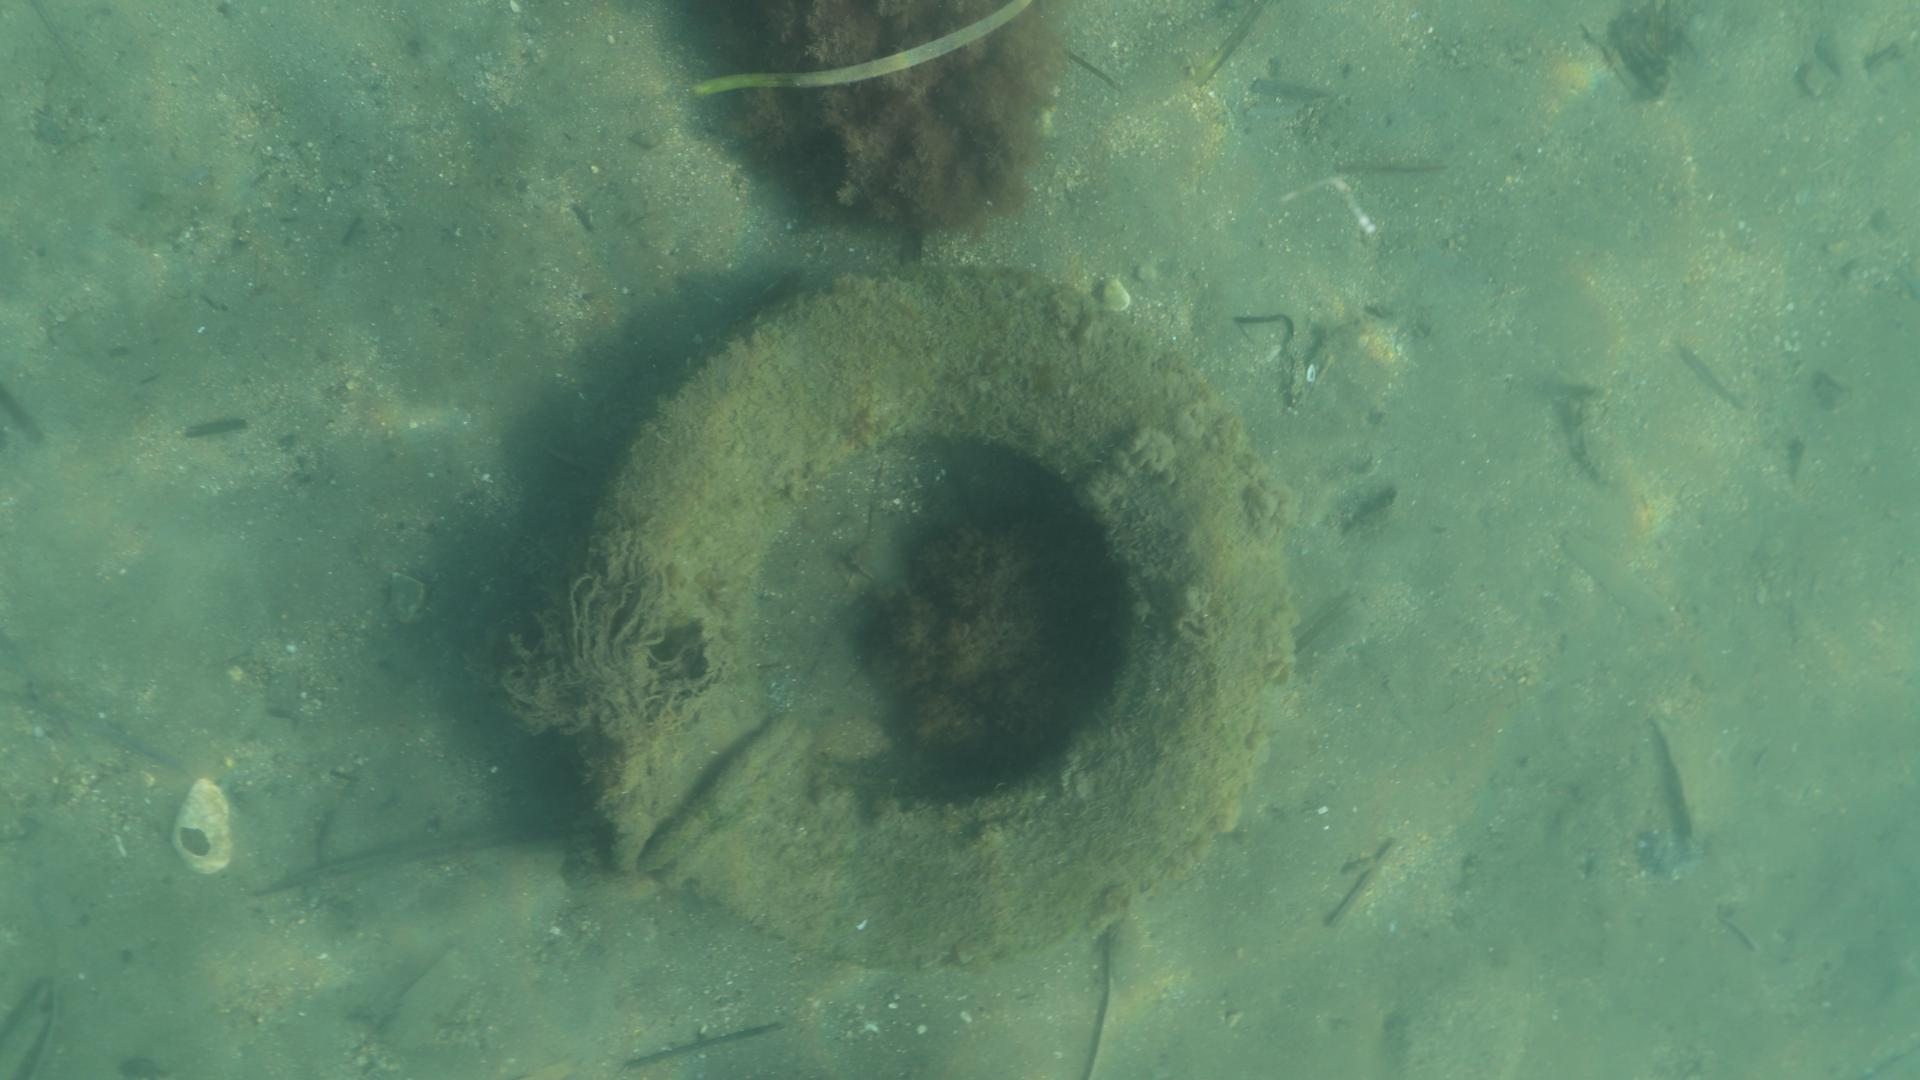tire: (567, 276, 1304, 971)
